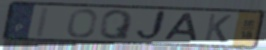A: (161, 12, 199, 43)
I: (33, 6, 53, 39)
J: (133, 9, 168, 43)
K: (202, 12, 234, 44)
O: (65, 8, 99, 39)
Q: (98, 9, 136, 41)
